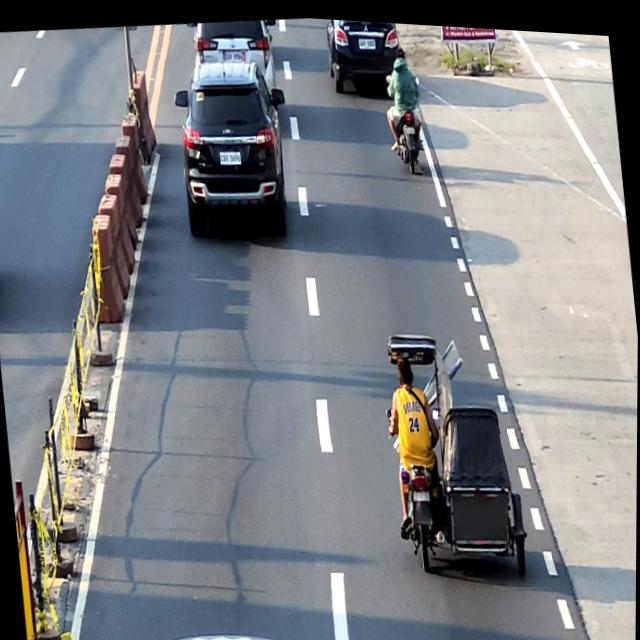Car: (169, 50, 299, 245), (186, 12, 283, 98), (322, 15, 404, 93)
License-Plate: (219, 146, 242, 163), (223, 45, 243, 62), (357, 31, 375, 46), (412, 484, 431, 498), (404, 120, 415, 130)
Motorcycle: (385, 65, 429, 172)
Tricycle: (377, 316, 534, 588)
